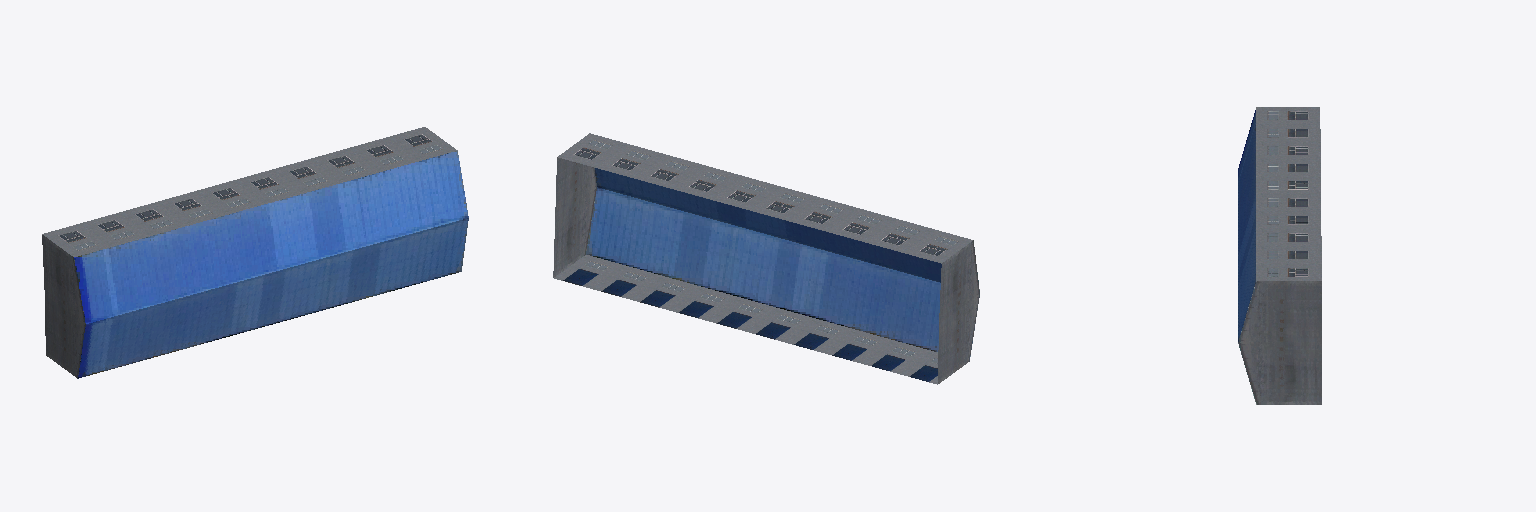
The picture shows the model from 3 angles: view 1: azimuth 30°, elevation 25°; view 2: azimuth 150°, elevation 25°; view 3: azimuth 270°, elevation 25°; orthographic projection.
Visible parts, largest first — view 1: Group_MatrixTransform_i94b011_Geometry_3, Group_MatrixTransform_i94b011_Geometry_1, Group_MatrixTransform_i94b011_Geometry_2; view 2: Group_MatrixTransform_i94b011_Geometry_3, Group_MatrixTransform_i94b011_Geometry_1, Group_MatrixTransform_i94b011_Geometry_0, Group_MatrixTransform_i94b011_Geometry_2; view 3: Group_MatrixTransform_i94b011_Geometry_1, Group_MatrixTransform_i94b011_Geometry_2, Group_MatrixTransform_i94b011_Geometry_3.
Part boxes in pixels (left/top/right/bottom): Group_MatrixTransform_i94b011_Geometry_3: left=74, top=151, right=468, bottom=378; Group_MatrixTransform_i94b011_Geometry_1: left=42, top=127, right=457, bottom=256; Group_MatrixTransform_i94b011_Geometry_2: left=42, top=235, right=85, bottom=378; Group_MatrixTransform_i94b011_Geometry_3: left=586, top=168, right=941, bottom=351; Group_MatrixTransform_i94b011_Geometry_1: left=558, top=133, right=972, bottom=263; Group_MatrixTransform_i94b011_Geometry_0: left=554, top=255, right=937, bottom=384; Group_MatrixTransform_i94b011_Geometry_2: left=553, top=157, right=979, bottom=383; Group_MatrixTransform_i94b011_Geometry_1: left=1256, top=107, right=1321, bottom=280; Group_MatrixTransform_i94b011_Geometry_2: left=1238, top=281, right=1321, bottom=404; Group_MatrixTransform_i94b011_Geometry_3: left=1238, top=110, right=1255, bottom=341.
Bounding box in the file's own units: 55.13 × 18.41 × 10.32.
Materials: 4 (4 with a texture image).